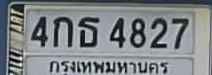2: (150, 17, 166, 47)
4: (30, 15, 47, 46), (109, 17, 124, 47)
7: (171, 17, 188, 48)
8: (129, 17, 145, 47)
A01: (52, 16, 72, 46)
A24: (77, 16, 99, 46)
BKK: (44, 56, 172, 75)
